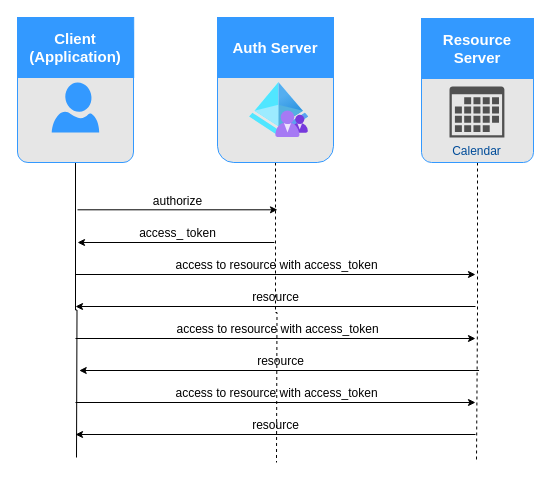
The diagram is 551 pixels wide and 481 high, and some of its shapes have lost their labels. The shapes that lost their labels are listed below. From the top down, each one's centre as x and y in pixels, then its label:
At point 75,107: "User".
At point 278,109: "Azure B2C".
